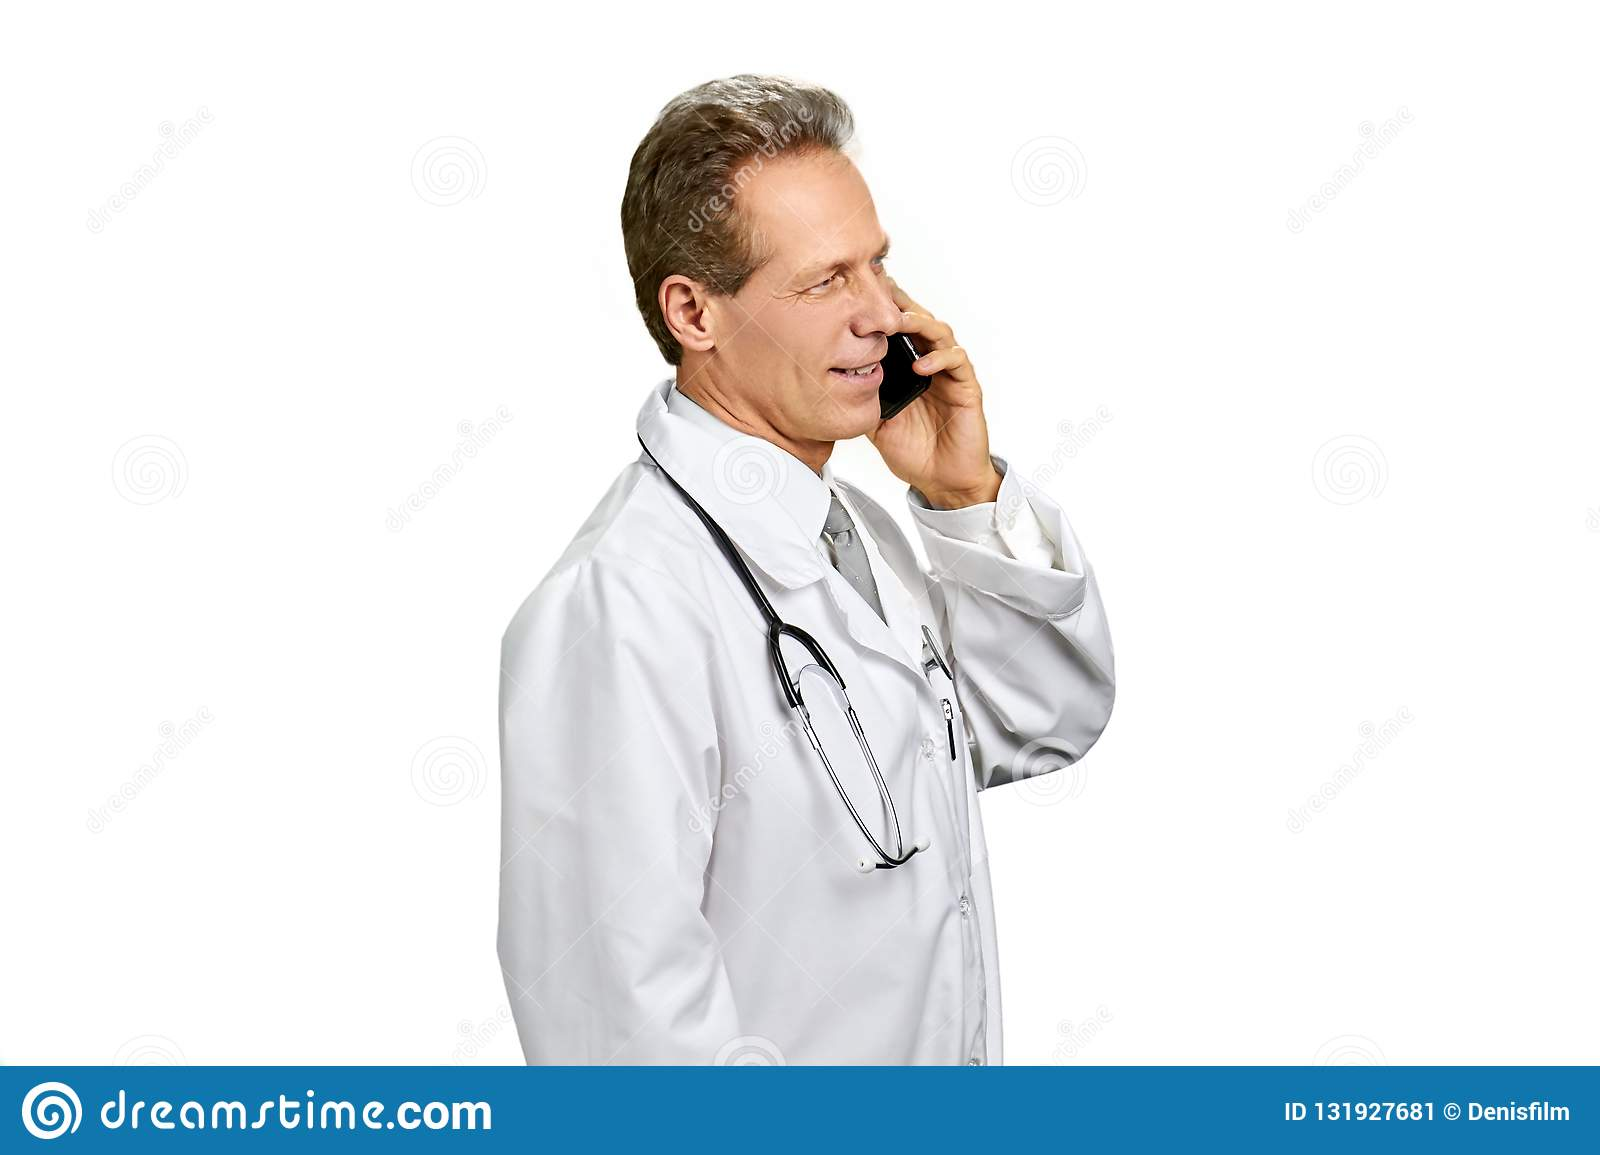talk: (763, 226, 1007, 504)
